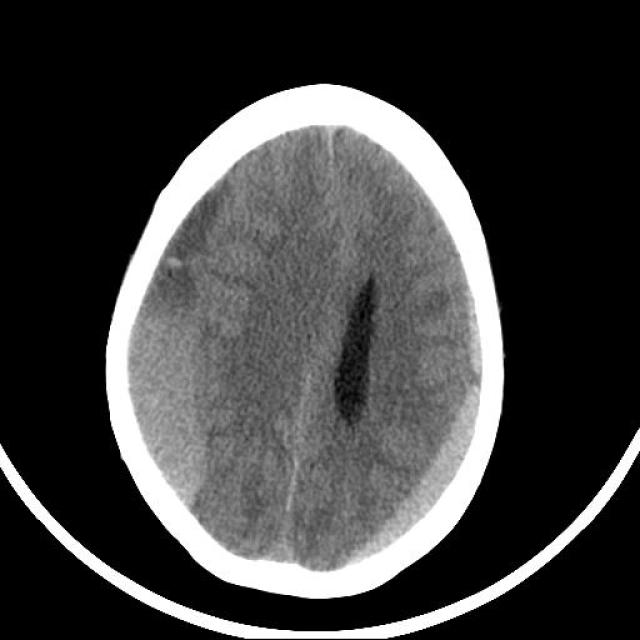Subdural: (354, 280, 498, 572)
